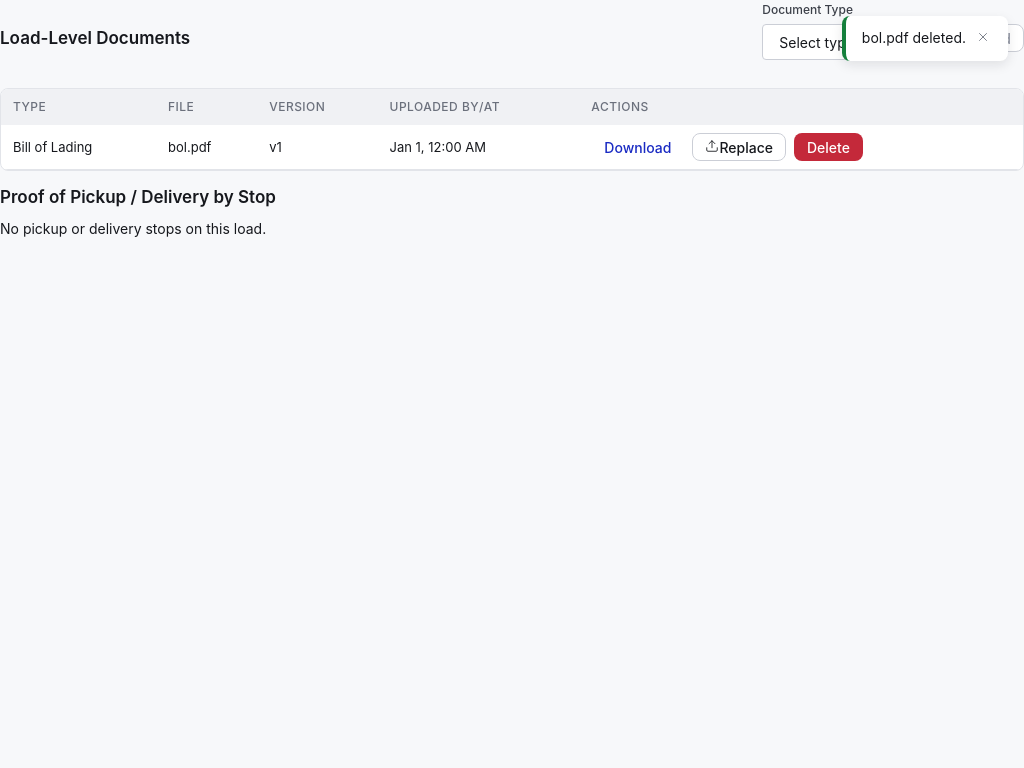
DocumentsTab — Load-Level Documents Replace + Delete › shows the backend's clean Load Draft dependency error via the existing toast pattern, never a raw failure
Check: the text "bol.pdf" is shown, box [156,125,257,170]
Click the button "Delete" at (828, 147), box [794,133,863,161]
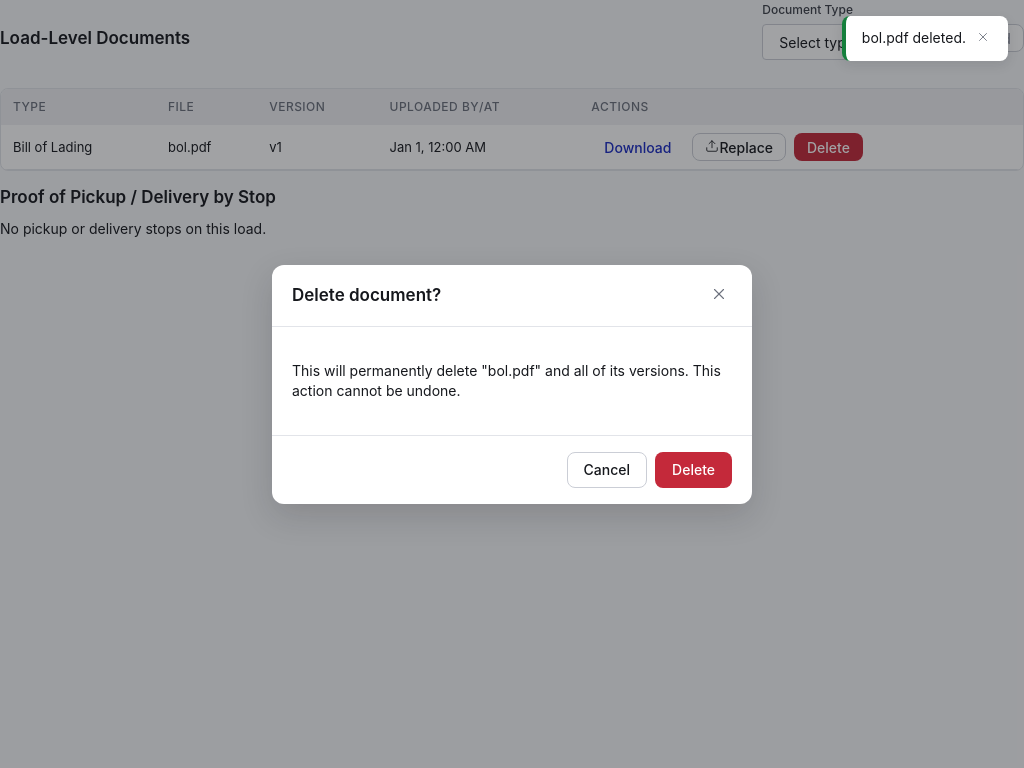
Check: the heading "Delete document?" is shown, box [292,283,441,307]
Click the button "Delete" at (694, 470), box [655,452,732,488]
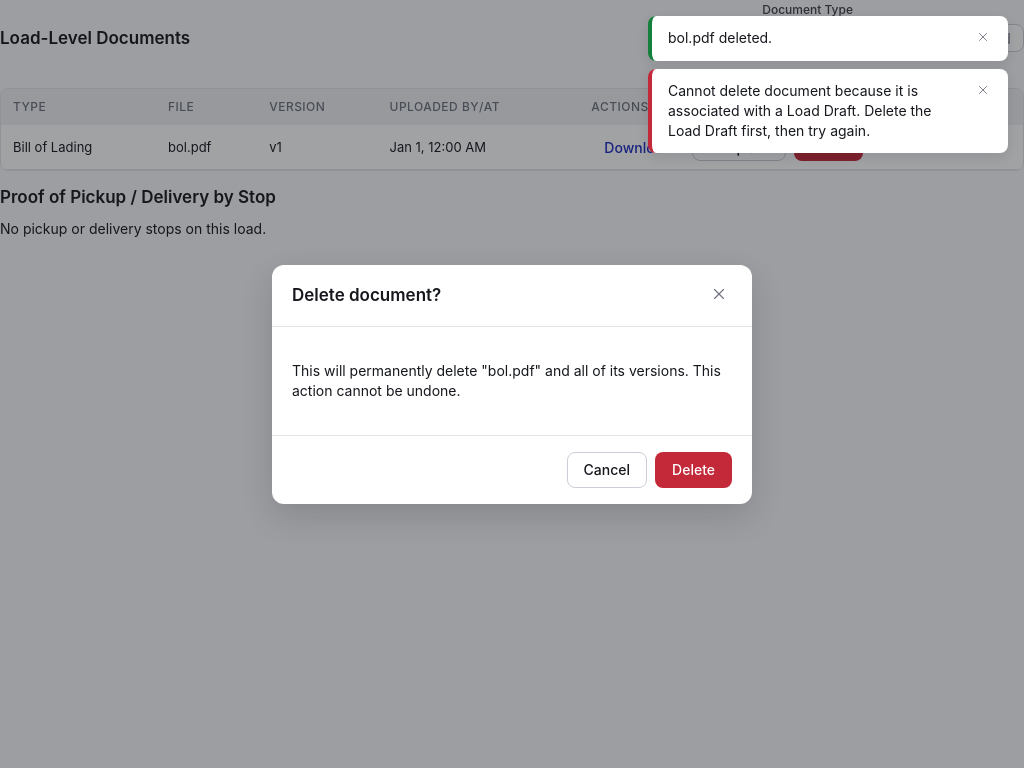
Check: the heading "Delete document?" is shown, box [292,283,441,307]
Check: the text "Cannot delete document because it is associated with a Load Draft. Delete the Load Draft first, then try again." is shown, box [668,82,932,139]
